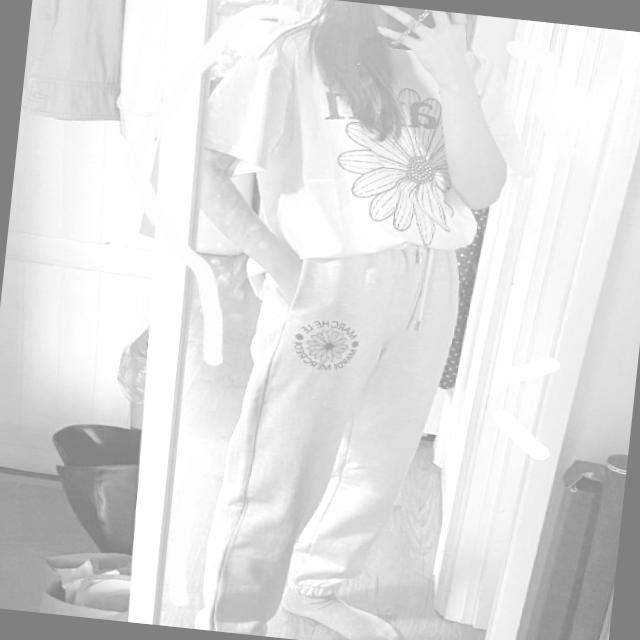shortsleeve: (187, 4, 547, 288)
trainingpants: (183, 214, 469, 640)
